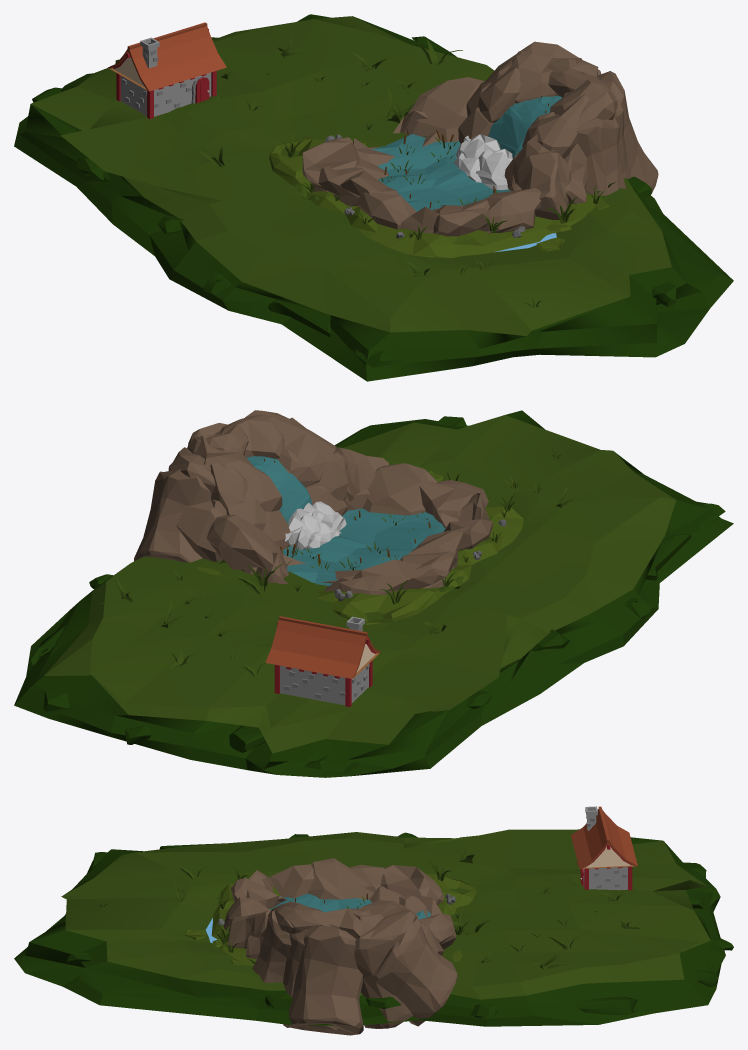
Rendered from house3.fbx.
The picture shows the model from 3 angles, top to bottom: view 1: azimuth 30°, elevation 25°; view 2: azimuth 150°, elevation 25°; view 3: azimuth 270°, elevation 25°; orthographic projection. The views are drawn at different scales.
Parts seen in each view (by area): view 1: Nature, Object_14, Object_22, Object_8, Houseroof, Object_5, Housemain, Object_18; view 2: Nature, Object_14, Object_22, Object_8, Houseroof, Object_5, Housemain, Object_18; view 3: Nature, Object_14, Houseroof, Object_8, Object_22, Housemain, Object_18, Housemain.002.
Boxes of the visible parts, x1=… form: Nature: x1=14, y1=14, x2=733, y2=381; Object_14: x1=302, y1=41, x2=658, y2=236; Object_22: x1=371, y1=95, x2=562, y2=211; Object_8: x1=269, y1=133, x2=609, y2=257; Houseroof: x1=108, y1=22, x2=226, y2=91; Object_5: x1=453, y1=134, x2=512, y2=189; Housemain: x1=120, y1=72, x2=211, y2=116; Object_18: x1=281, y1=102, x2=604, y2=240; Nature: x1=14, y1=410, x2=733, y2=777; Object_14: x1=134, y1=410, x2=492, y2=603; Object_22: x1=246, y1=456, x2=445, y2=586; Object_8: x1=196, y1=456, x2=523, y2=624; Houseroof: x1=265, y1=616, x2=380, y2=678; Object_5: x1=285, y1=501, x2=346, y2=549; Housemain: x1=275, y1=664, x2=368, y2=705; Object_18: x1=247, y1=452, x2=515, y2=604; Nature: x1=14, y1=829, x2=733, y2=1026; Object_14: x1=224, y1=858, x2=457, y2=1035; Houseroof: x1=571, y1=806, x2=637, y2=868; Object_8: x1=211, y1=874, x2=476, y2=965; Object_22: x1=269, y1=893, x2=430, y2=919; Housemain: x1=589, y1=867, x2=627, y2=890; Object_18: x1=214, y1=861, x2=470, y2=952; Housemain.002: x1=581, y1=846, x2=635, y2=868.
Size of the model in its own units: 4243 by 1351 by 6792.
